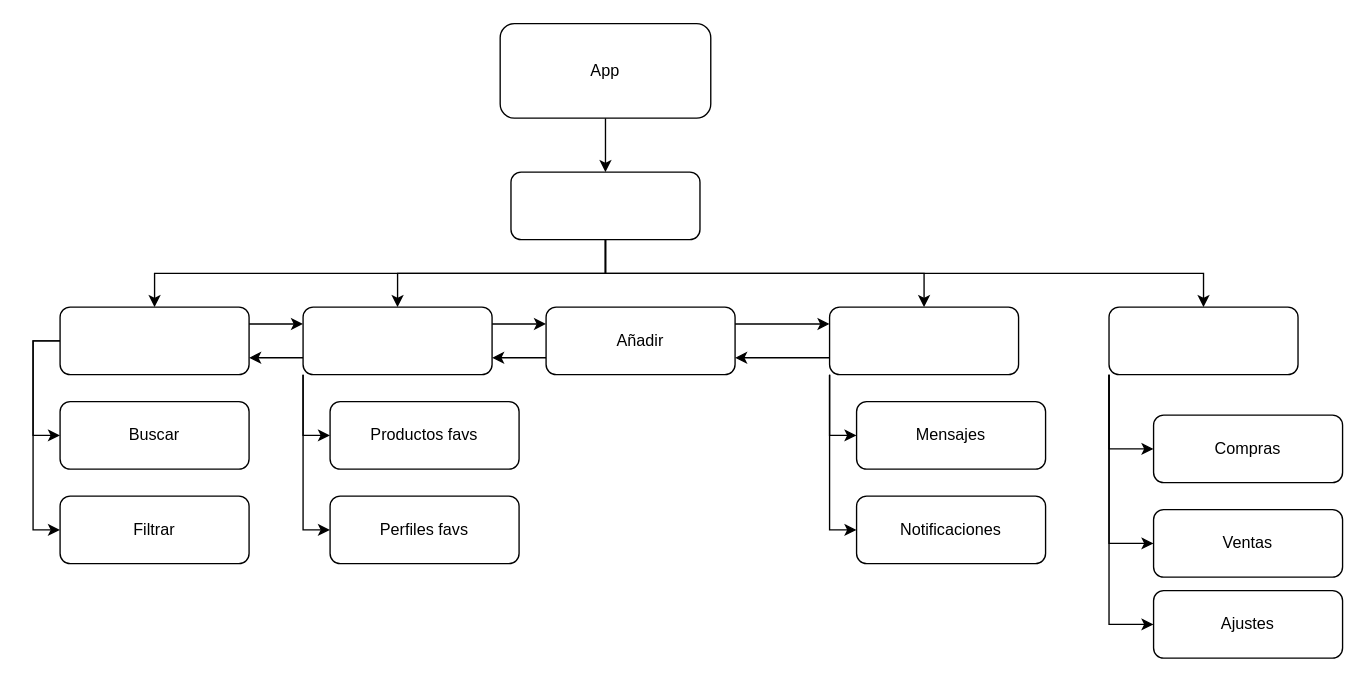
This 1366x682 diagram has some shape labels left out. The shapes that lost their labels are listed below. From the top down, each one's centre as x and y in pixels, then its label:
At (605,205): "Login".
At (154,340): "Home".
At (397,340): "Favoritos".
At (923,340): "Chats".
At (1203,340): "Perfil".
